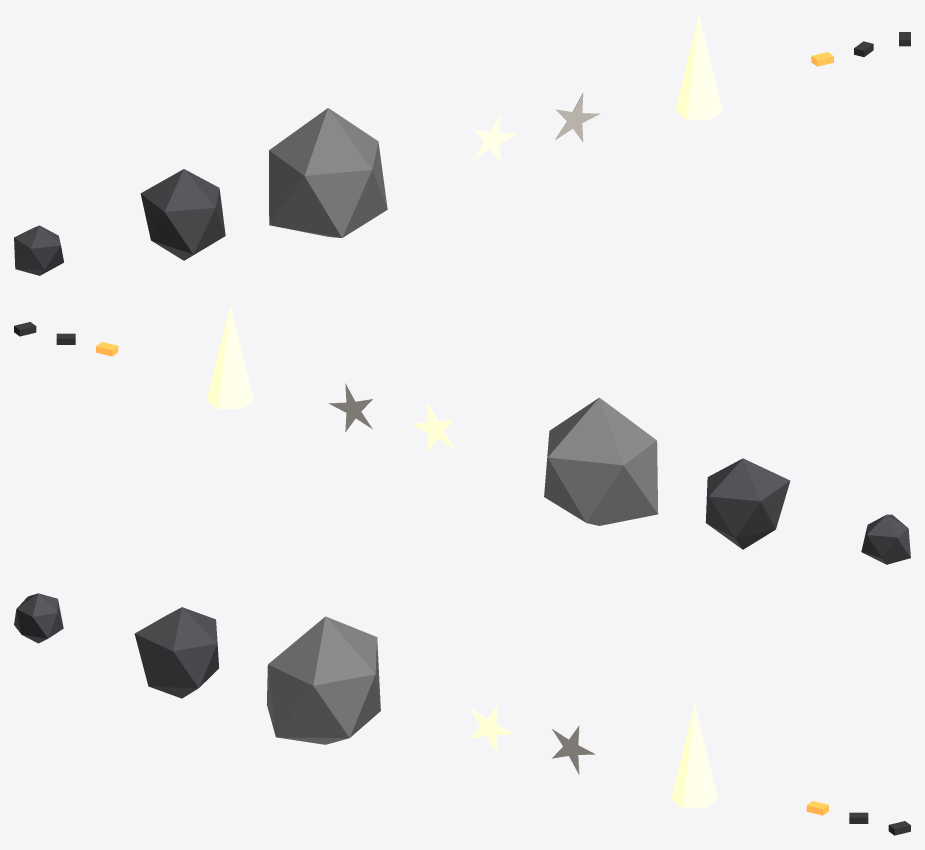
Rendered from FX_AegisDamage.fbx.
The picture shows the model from 3 angles, top to bottom: view 1: azimuth 30°, elevation 25°; view 2: azimuth 150°, elevation 25°; view 3: azimuth 330°, elevation 25°; orthographic projection.
Parts seen in each view (by area): view 1: ADmg_Puff2, ADmg_Puff1, ADmg_Flame, ADmg_Puff0, ADmg_Spark0, ADmg_Spark1; view 2: ADmg_Puff2, ADmg_Puff1, ADmg_Flame, ADmg_Puff0, ADmg_Spark0, ADmg_Spark1; view 3: ADmg_Puff2, ADmg_Puff1, ADmg_Flame, ADmg_Puff0, ADmg_Spark1, ADmg_Spark0.
Part boxes in pixels (x1,y1,x2,y2): ADmg_Puff2: [269, 108, 387, 237]; ADmg_Puff1: [140, 169, 225, 260]; ADmg_Flame: [675, 15, 722, 119]; ADmg_Puff0: [14, 225, 63, 275]; ADmg_Spark0: [473, 113, 517, 162]; ADmg_Spark1: [555, 93, 599, 141]; ADmg_Puff2: [544, 397, 658, 525]; ADmg_Puff1: [705, 458, 790, 549]; ADmg_Flame: [206, 305, 253, 409]; ADmg_Puff0: [861, 514, 910, 564]; ADmg_Spark0: [410, 403, 455, 451]; ADmg_Spark1: [328, 383, 372, 431]; ADmg_Puff2: [266, 616, 380, 744]; ADmg_Puff1: [134, 607, 219, 698]; ADmg_Flame: [671, 704, 718, 808]; ADmg_Puff0: [14, 593, 63, 643]; ADmg_Spark1: [551, 725, 595, 774]; ADmg_Spark0: [469, 705, 513, 754].
Size of the model in its own units: 4.36 by 0.6142 by 0.5474.
